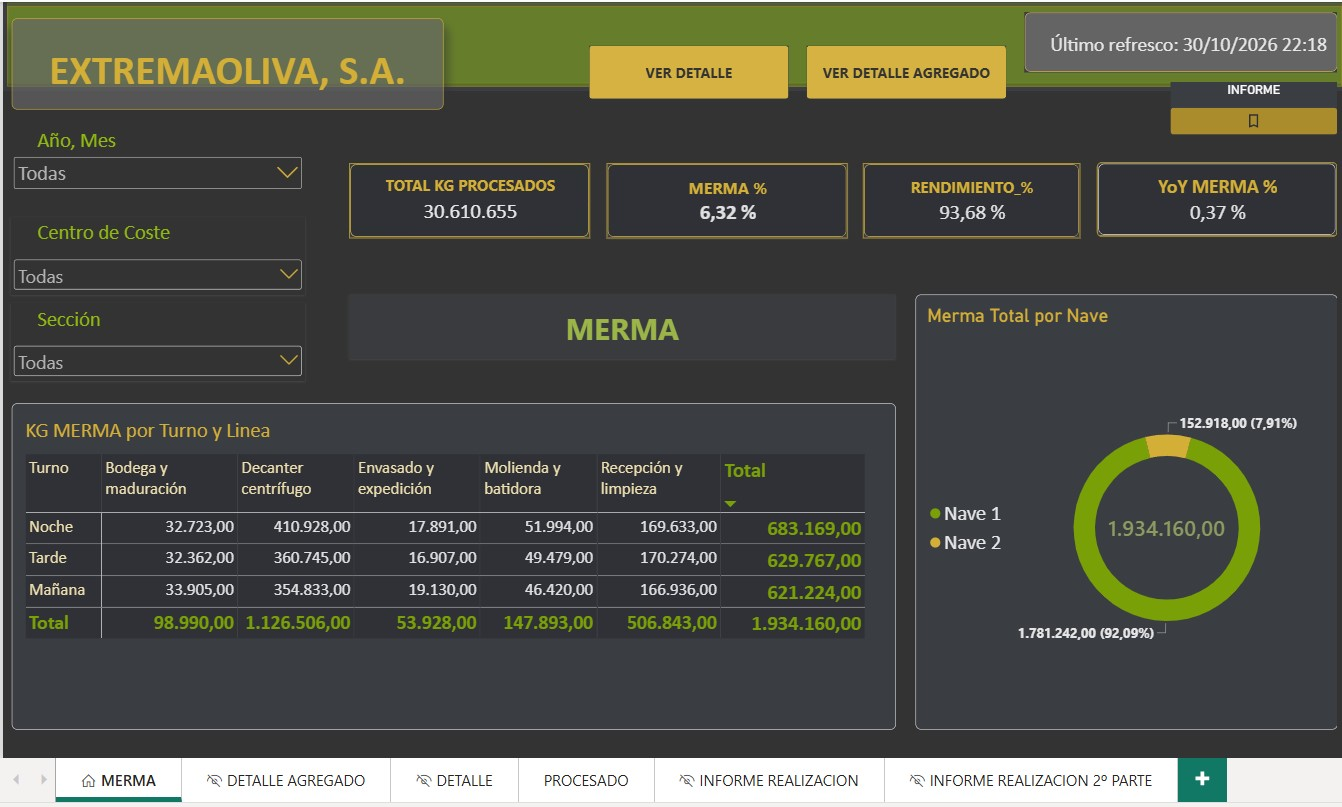

This screenshot's page, from the dashboard's own definition file:
{"tool":"powerbi","page":{"name":"MERMA","canvas":[1920,1080],"ordinal":0},"visuals":[{"type":"shape","box":[0,0,1920.6,127],"z":0},{"type":"slicer","title":" ⠀⠀Año, Mes","fields":{"Values":["Calendario.AÑO","Calendario.MES_LETRA"]},"box":[11.5,174.4,421,111],"z":1000},{"type":"textbox","box":[11.7,23.3,616.7,130],"z":2000},{"type":"slicer","title":"⠀⠀Sección","fields":{"Values":["Dim_Lineas.Seccion"]},"box":[11.5,429.5,421,111],"z":3000},{"type":"slicer","title":"⠀⠀Centro de Coste","fields":{"Values":["Dim_CentrosCoste.Nombre"]},"box":[11.5,307.7,421,111],"z":4000},{"type":"donutChart","title":" Merma Total por Nave","fields":{"Category":["Dim_Lineas.Nave"],"Y":["Fact_Produccion.TOTAL KG MERMA"]},"box":[1303.3,418.3,603.3,621.7],"z":5000},{"type":"pivotTable","title":"KG MERMA por Turno y Linea","fields":{"Columns":["Dim_Lineas.Nombre"],"Rows":["Dim_Turnos.Nombre"],"Values":["Fact_Produccion.TOTAL KG MERMA"]},"box":[11.7,573.3,1263.3,466.7],"z":6000},{"type":"cardVisual","fields":{"Data":["Fact_Produccion.TOTAL KG PROCESADOS"]},"box":[494.8,231.2,344,107],"z":7000},{"type":"cardVisual","fields":{"Data":["Fact_Produccion.MERMA %"]},"box":[862.3,231.2,344,107],"z":8000},{"type":"cardVisual","fields":{"Data":["Fact_Produccion.RENDIMIENTO_%"]},"box":[1228.6,229.9,310,107.1],"z":9000},{"type":"cardVisual","fields":{"Data":["Fact_Produccion.% DIF AÑO ANTERIOR EN MERMA"]},"box":[1562.3,228.6,344.3,107.1],"z":10000},{"type":"textbox","box":[495,418.3,780,91.7],"z":11000},{"type":"actionButton","box":[1148.3,63.3,284.6,75.6],"z":12000},{"type":"actionButton","box":[838.3,63.3,284.6,75.6],"z":13000},{"type":"cardVisual","fields":{"Data":["Calendario.Último Refresco"]},"box":[1458.3,15,448.3,86.7],"z":14000},{"type":"actionButton","title":"INFORME","box":[1668.3,115,238.3,75],"z":16000}]}

Visuals, with their boxes on the page's 1920x1080 design canvas (x1, y1, x2, y2). These are canvas units, not pixel positions in the 1342x807 screenshot, which may show the page scaled, cropped or inside an application window:
shape: Rect(0, 0, 1921, 127)
" ⠀⠀Año, Mes" slicer: Rect(12, 174, 432, 285)
textbox: Rect(12, 23, 628, 153)
"⠀⠀Sección" slicer: Rect(12, 430, 432, 540)
"⠀⠀Centro de Coste" slicer: Rect(12, 308, 432, 419)
" Merma Total por Nave" donutChart: Rect(1303, 418, 1907, 1040)
"KG MERMA por Turno y Linea" pivotTable: Rect(12, 573, 1275, 1040)
cardVisual - Fact_Produccion.TOTAL KG PROCESADOS: Rect(495, 231, 839, 338)
cardVisual - Fact_Produccion.MERMA %: Rect(862, 231, 1206, 338)
cardVisual - Fact_Produccion.RENDIMIENTO_%: Rect(1229, 230, 1539, 337)
cardVisual - Fact_Produccion.% DIF AÑO ANTERIOR EN MERMA: Rect(1562, 229, 1907, 336)
textbox: Rect(495, 418, 1275, 510)
actionButton: Rect(1148, 63, 1433, 139)
actionButton: Rect(838, 63, 1123, 139)
cardVisual - Calendario.Último Refresco: Rect(1458, 15, 1907, 102)
"INFORME" actionButton: Rect(1668, 115, 1907, 190)
